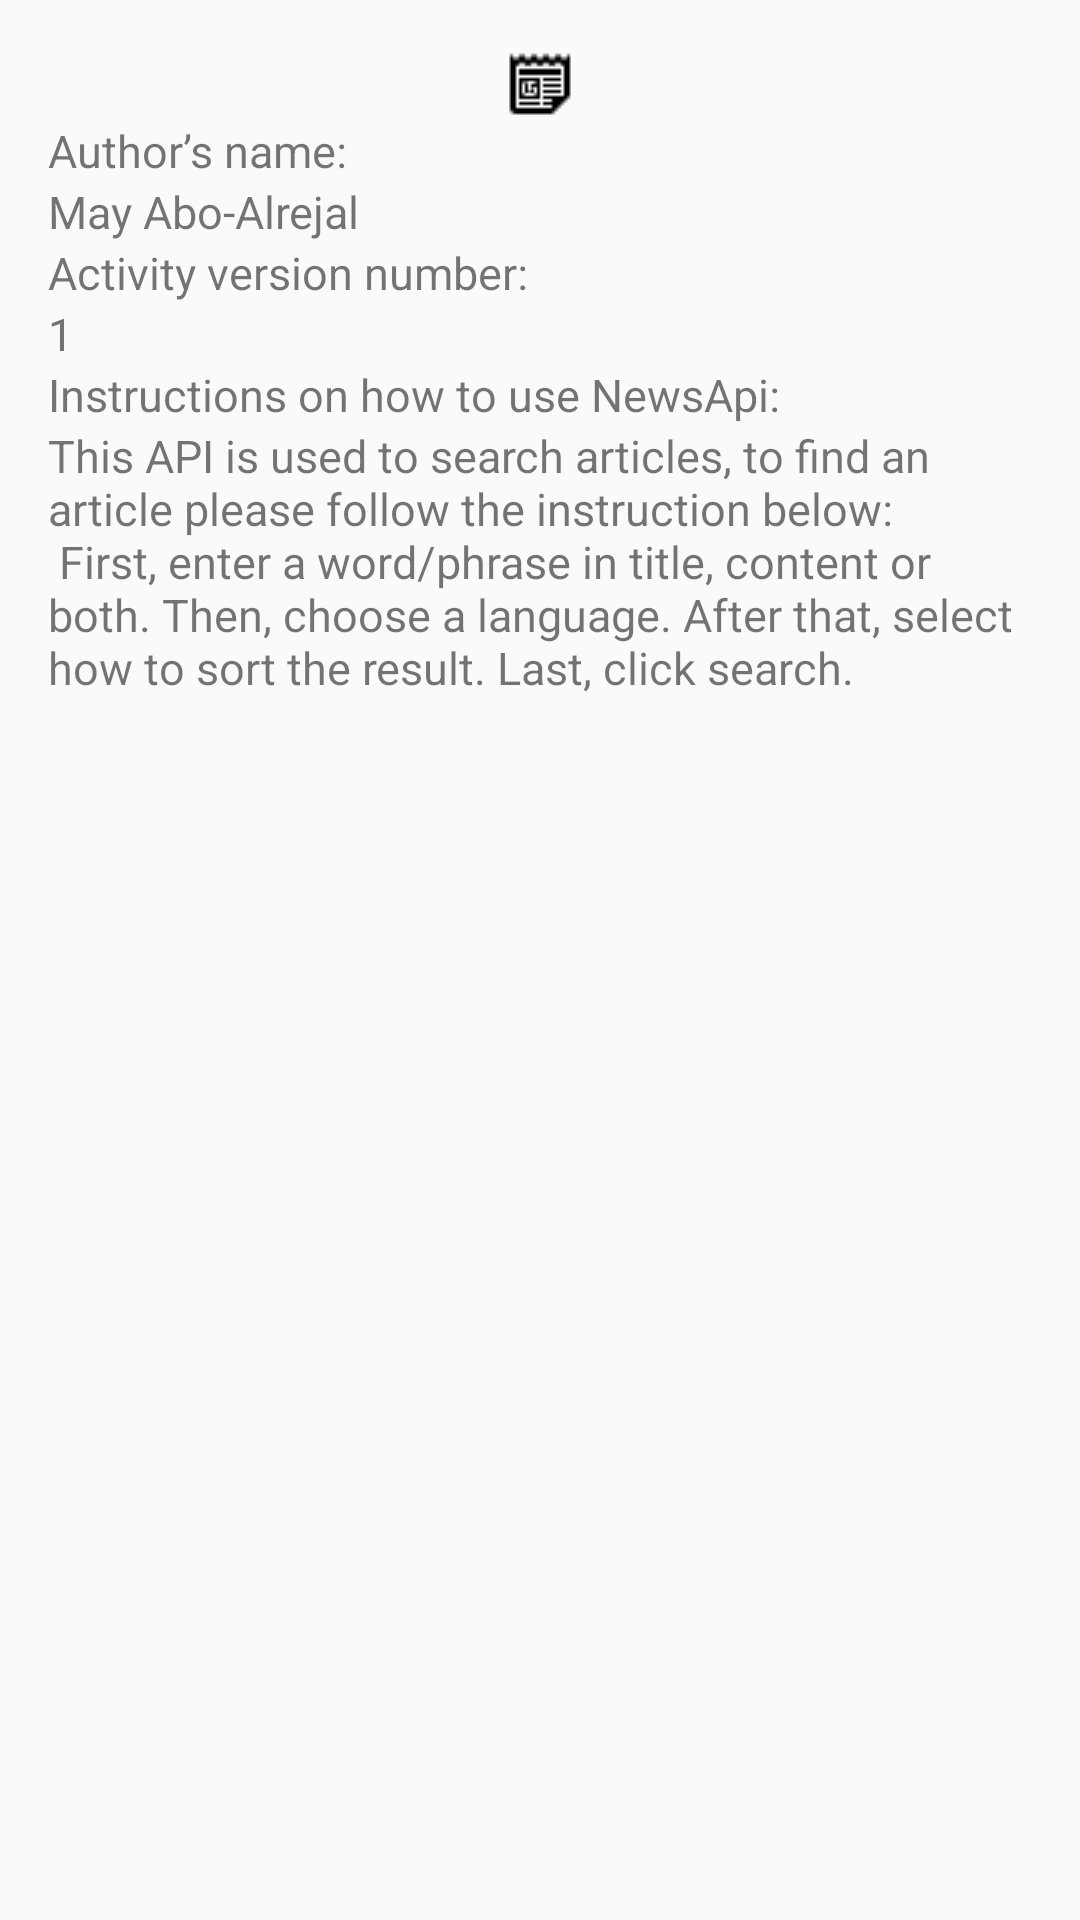

Screen size 1080px×1920px. Icon name, then its center in pixels as (x,y):
News Headlines search: (540,84)
